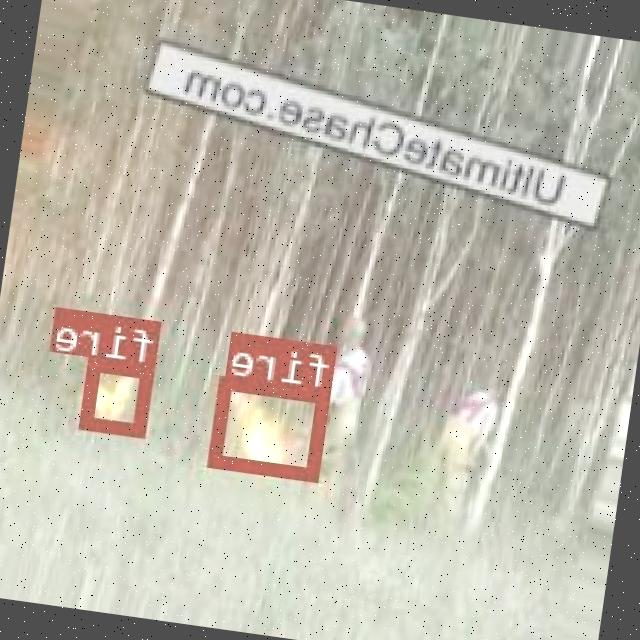fire: (212, 376, 332, 480), (84, 358, 157, 436)
